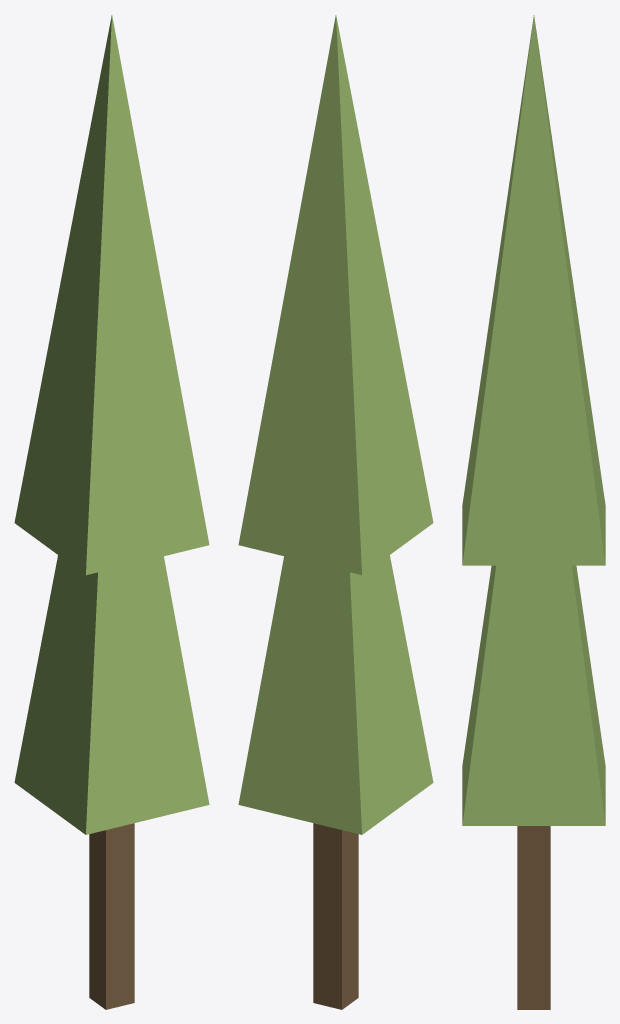
File: Tree_2.fbx
3 renders of one model, left to right at view 1: azimuth 30°, elevation 25°; view 2: azimuth 150°, elevation 25°; view 3: azimuth 270°, elevation 25°, orthographic.
Parts seen in each view (by area): view 1: Tree_2; view 2: Tree_2; view 3: Tree_2.
Part boxes in pixels (x1,y1,x2,y2): Tree_2: [14, 15, 209, 1009]; Tree_2: [238, 15, 433, 1009]; Tree_2: [462, 15, 605, 1009].
Bounding box in the file's own units: 37.73 × 288 × 37.73.
1 material, 1 textured.
